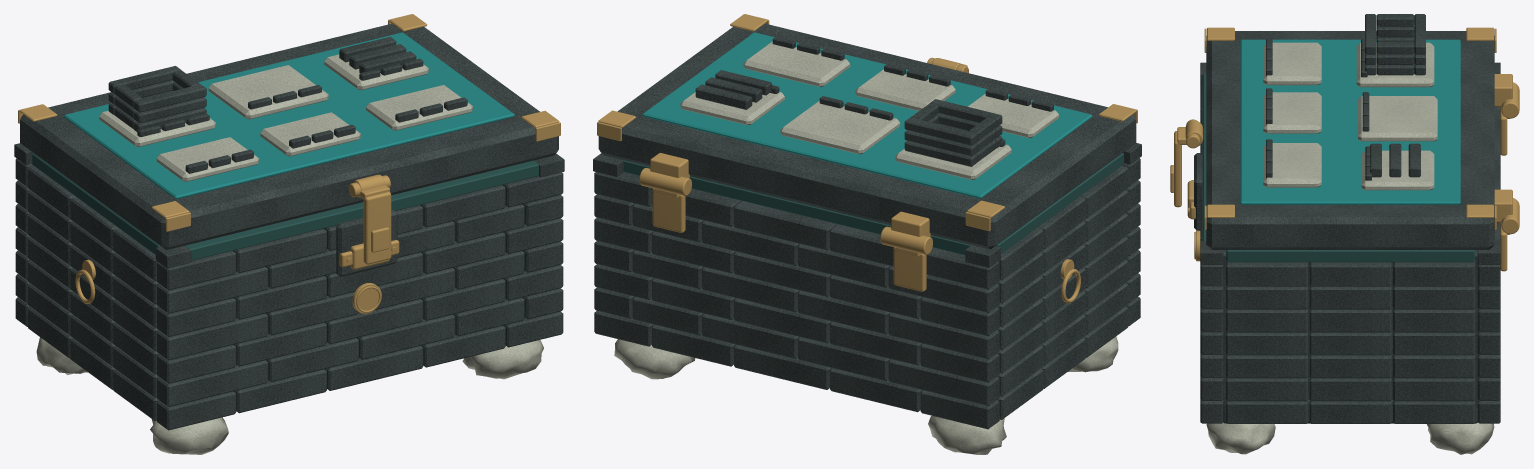
Rendered from micronesia.glb.
3 views of the same model, side by side, from view 1: azimuth 30°, elevation 25°; view 2: azimuth 150°, elevation 25°; view 3: azimuth 270°, elevation 25° (orthographic).
Parts seen in each view (by area): view 1: Lid / polished slab, Lagoon / connected tidal inlay, Mineral seam / long, Islet / platform 04, Basalt course / long 1 -1 0, Basalt course / long 3 -1 0, Basalt course / long 5 -1 0, Islet / platform 02, Basalt course / long 1 -1 2, Basalt course / long 0 -1 2, Basalt course / long 2 -1 2, Basalt course / long 6 -1 1 (+68 smaller); view 2: Lid / polished slab, Lagoon / connected tidal inlay, Islet / platform 04, Mineral seam / long.001, Basalt course / long 6 1 2, Islet / platform 02, Basalt course / long 1 1 0, Basalt course / long 3 1 0, Islet / platform 01, Basalt course / long 5 1 2, Basalt course / long 1 1 2, Basalt course / long 2 1 2 (+72 smaller); view 3: Lid / polished slab, Lagoon / connected tidal inlay, Islet / platform 04, Mineral seam / side.001, Islet / platform 02, Islet / platform 00, Islet / platform 01, Basalt course / end 6 1 2, Basalt course / end 6 1 1, Basalt course / end 6 1 0, Basalt course / end 5 1 2, Basalt course / end 1 1 1 (+60 smaller).
Boxes of the visible parts, x1,y1,x2,y2 form: Lid / polished slab: (20,23,558,249); Lagoon / connected tidal inlay: (64,32,514,199); Mineral seam / long: (185,160,538,260); Islet / platform 04: (208,65,328,119); Basalt course / long 1 -1 0: (157,360,268,406); Basalt course / long 3 -1 0: (157,313,268,360); Basalt course / long 5 -1 0: (157,267,268,313); Islet / platform 02: (366,85,472,130); Basalt course / long 1 -1 2: (357,314,455,359); Basalt course / long 0 -1 2: (324,345,423,390); Basalt course / long 2 -1 2: (324,299,423,344); Basalt course / long 6 -1 1: (233,228,326,273); Lid / polished slab: (598,23,1136,249); Lagoon / connected tidal inlay: (642,32,1092,198); Islet / platform 04: (780,101,900,154); Mineral seam / long.001: (623,160,971,254); Basalt course / long 6 1 2: (734,201,837,250); Islet / platform 02: (743,41,850,86); Basalt course / long 1 1 0: (888,359,999,405); Basalt course / long 3 1 0: (888,312,999,359); Islet / platform 01: (855,69,955,110); Basalt course / long 5 1 2: (702,220,800,265); Basalt course / long 1 1 2: (702,314,800,358); Basalt course / long 2 1 2: (734,298,831,343); Lid / polished slab: (1206,31,1494,249); Lagoon / connected tidal inlay: (1240,39,1460,204); Islet / platform 04: (1358,96,1437,141); Mineral seam / side.001: (1226,250,1474,262); Islet / platform 02: (1263,143,1321,187); Islet / platform 00: (1263,42,1321,85); Islet / platform 01: (1263,92,1321,133); Basalt course / end 6 1 2: (1393,259,1475,286); Basalt course / end 6 1 1: (1309,262,1391,286); Basalt course / end 6 1 0: (1226,259,1307,286); Basalt course / end 5 1 2: (1393,285,1475,309); Basalt course / end 1 1 1: (1309,377,1391,401).
Size of the model in its own units: 3.79 by 2.67 by 2.88.
5 materials, 2 textured.
